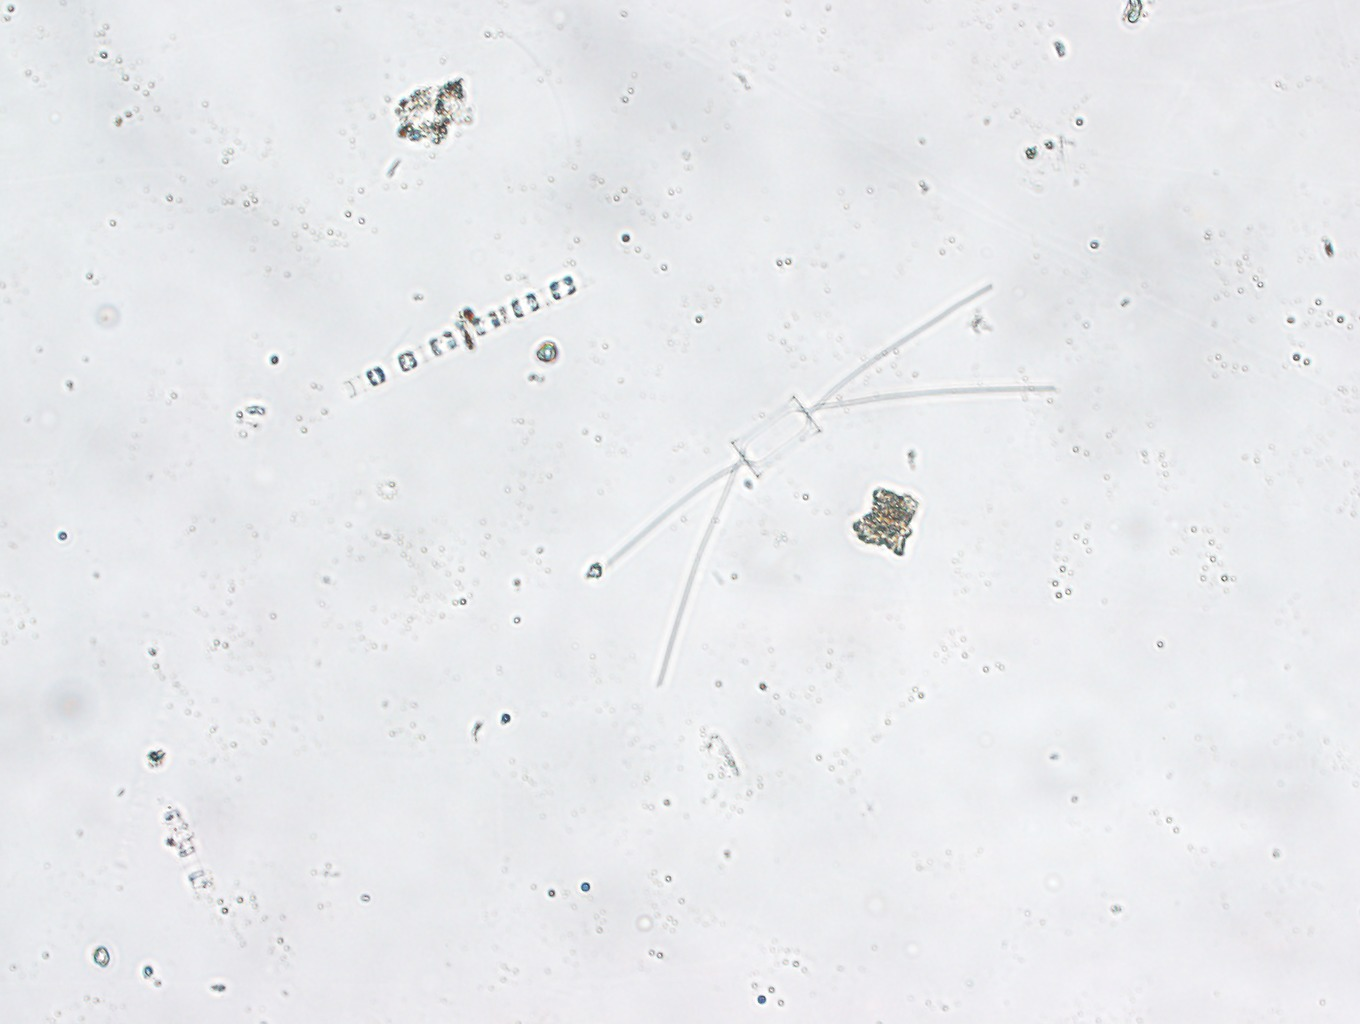chaetoceros: (606, 284, 1058, 689)
skeletonema: (338, 270, 589, 401)
